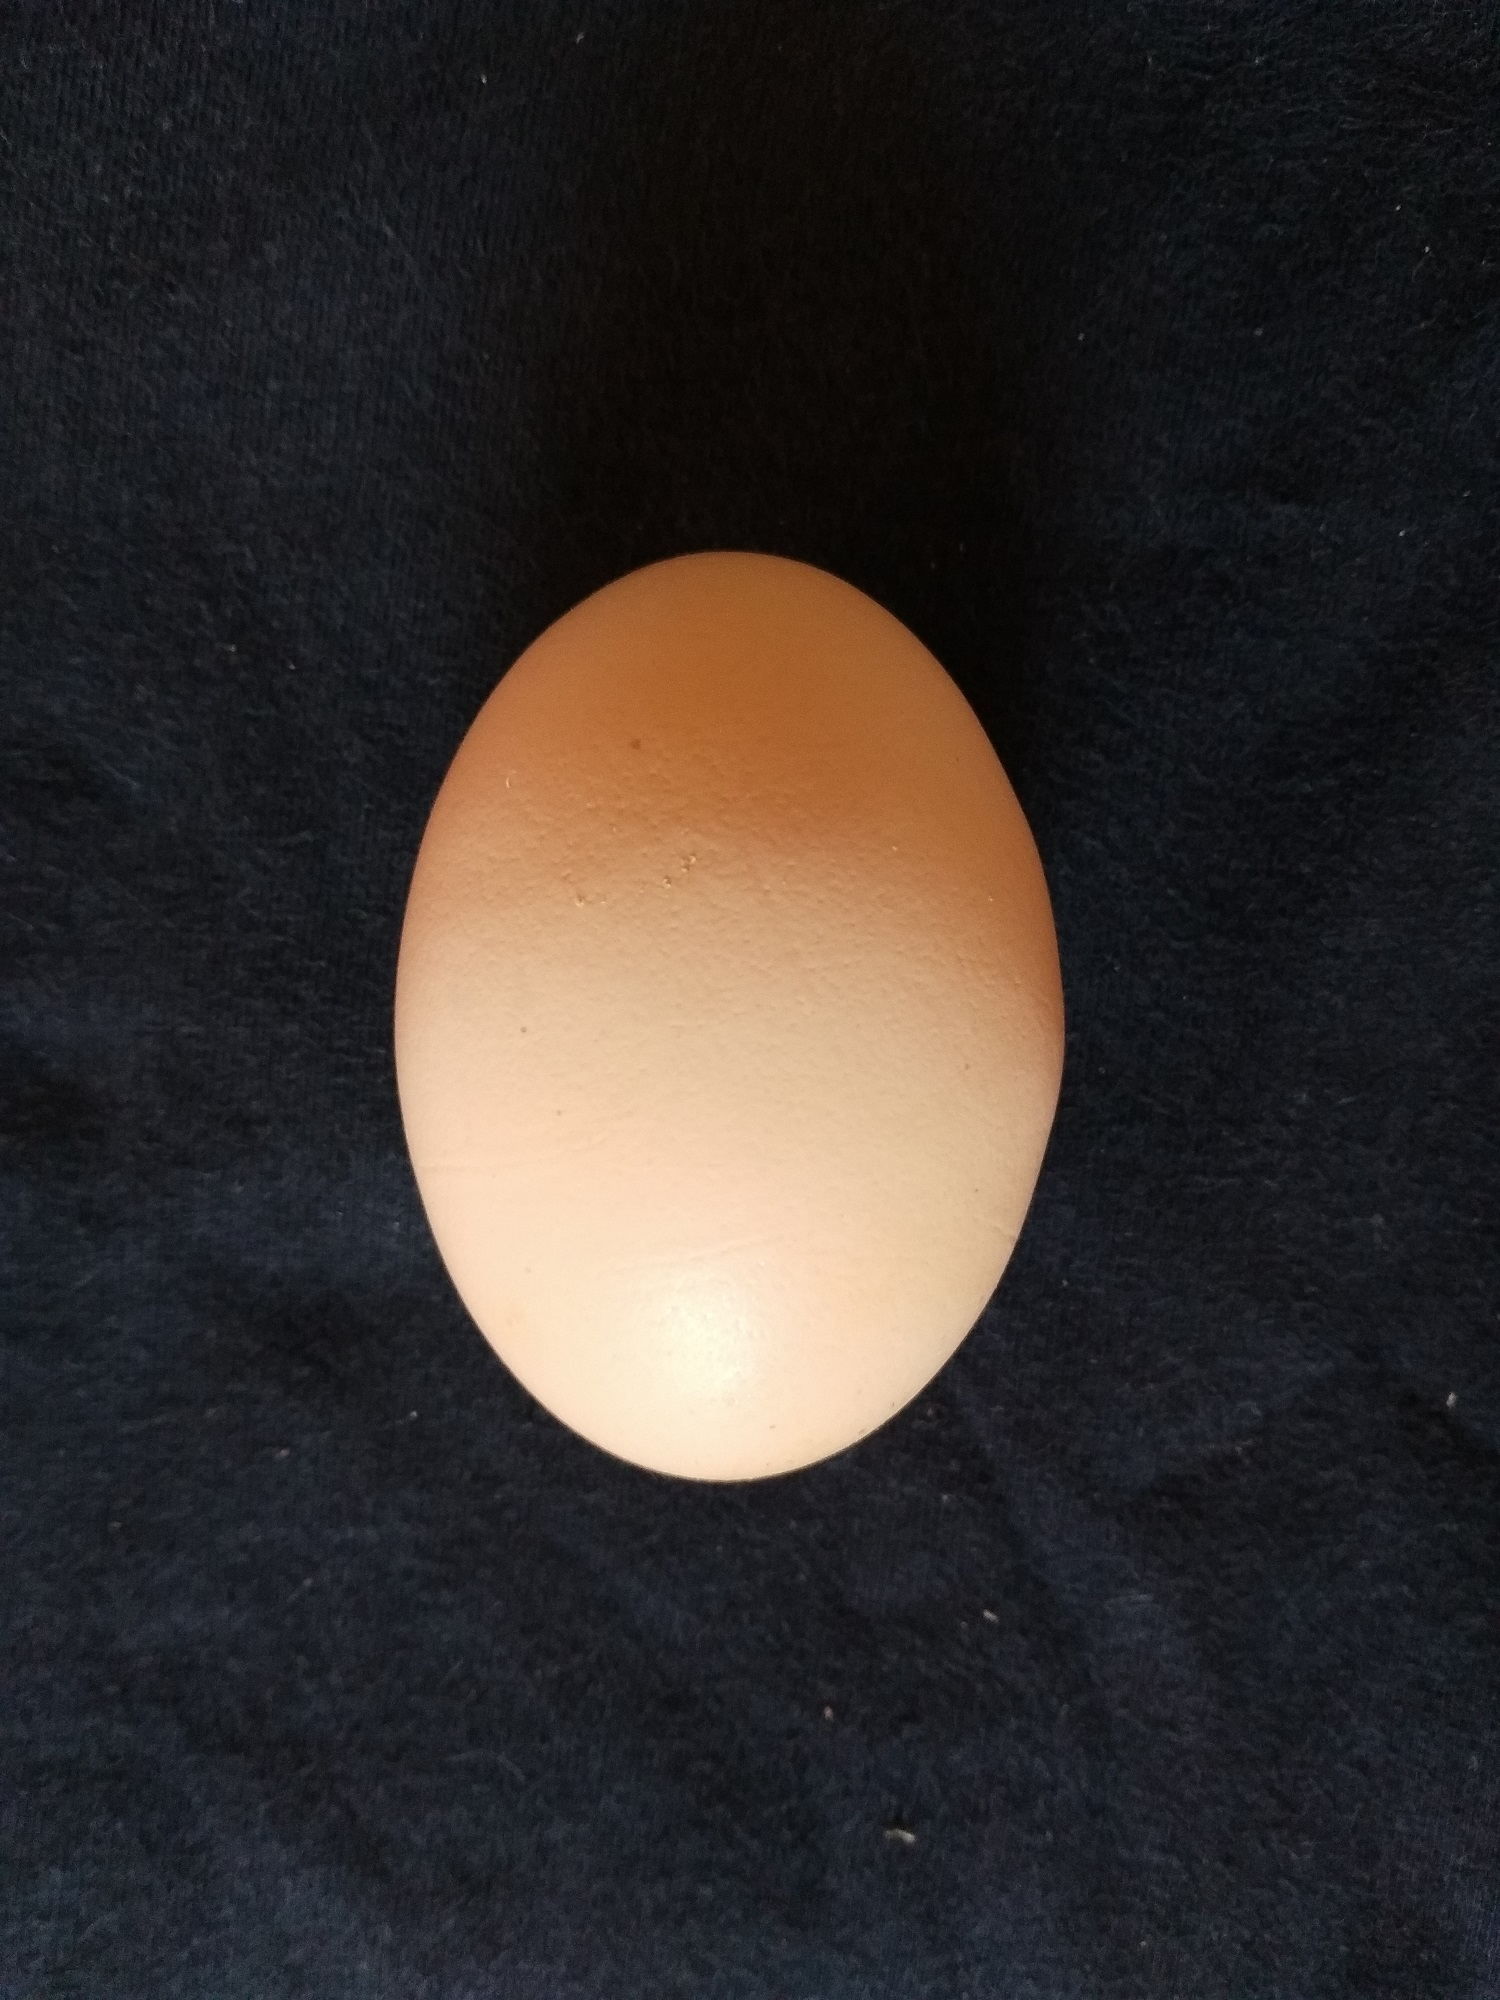Female: (383, 542, 1070, 1494)
